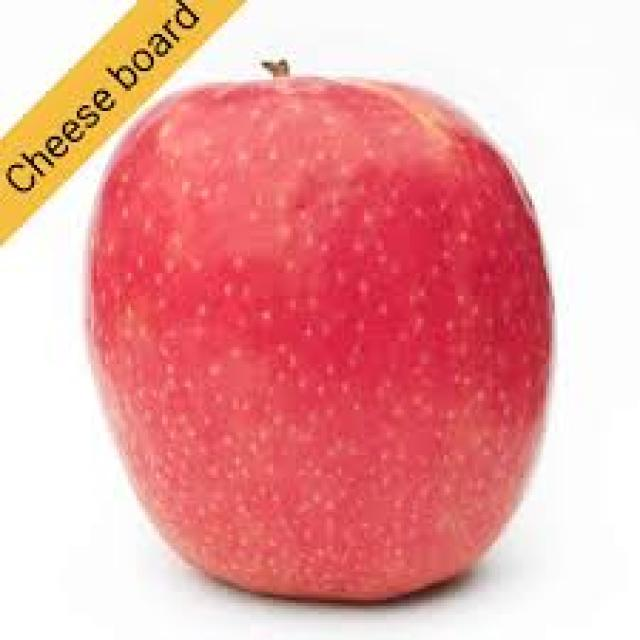apple: (79, 39, 554, 616)
